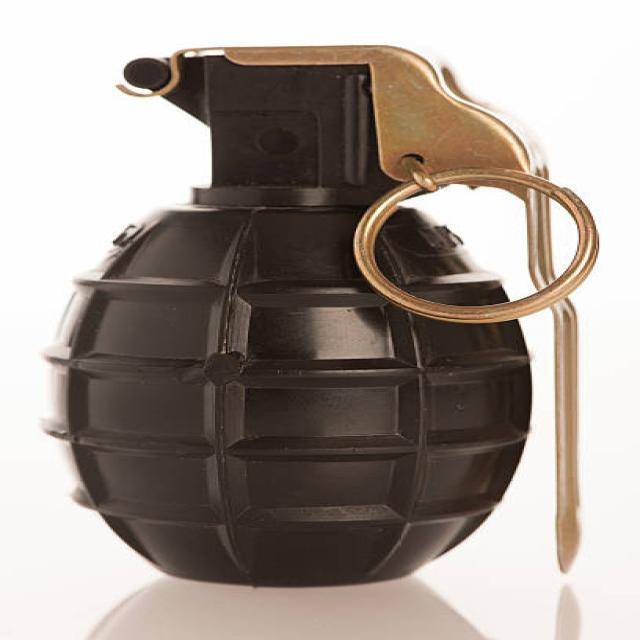grenade: (25, 36, 604, 592)
